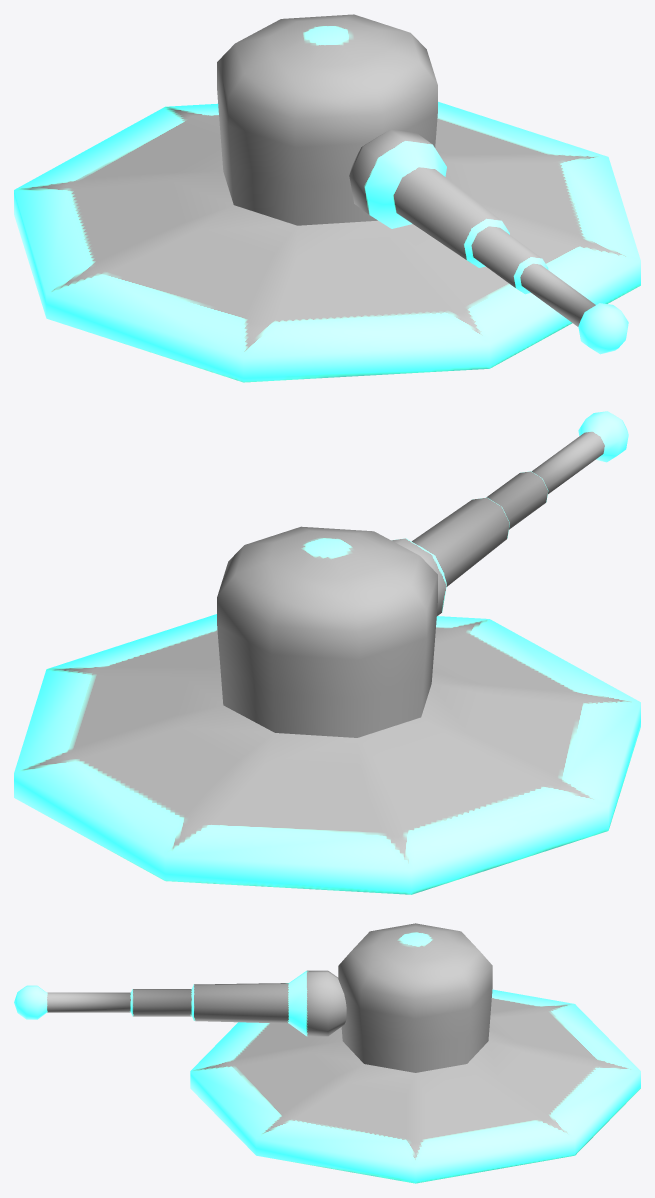
Rendered from tau.fbx.
3 views of the same model, one above another, from view 1: azimuth 30°, elevation 25°; view 2: azimuth 150°, elevation 25°; view 3: azimuth 270°, elevation 25° (orthographic). The views are drawn at different scales.
Visible parts, largest first — view 1: van, dau, Sphere; view 2: van, dau, Sphere; view 3: van, dau, Sphere.
Part boxes in pixels (<box>): van: <box>14,101,640,382</box>; dau: <box>217,14,437,225</box>; Sphere: <box>349,129,628,354</box>; van: <box>14,614,640,894</box>; dau: <box>217,526,437,737</box>; Sphere: <box>391,411,628,615</box>; van: <box>190,989,640,1183</box>; dau: <box>338,923,492,1072</box>; Sphere: <box>14,970,346,1036</box>.
Bounding box in the file's own units: 200 × 278 × 87.84.
